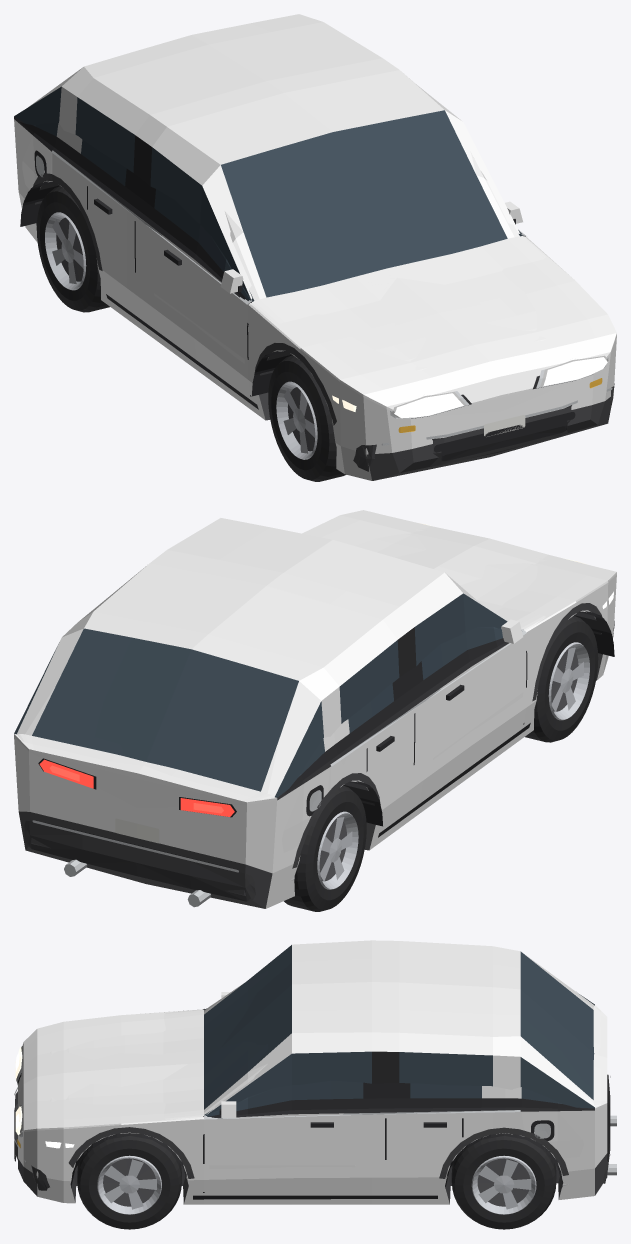
Rendered from pampeiro.glb.
The picture shows the model from 3 angles, top to bottom: view 1: azimuth 30°, elevation 25°; view 2: azimuth 150°, elevation 25°; view 3: azimuth 270°, elevation 25°; orthographic projection. The views are drawn at different scales.
Parts seen in each view (by area): view 1: body.001, glass.001, body, glass, details, wheel_fr, wheel_rr, lamp_head, wheel_wells.001, lamp_head.001; view 2: body.001, glass.001, body, details, glass, wheel_rr, wheel_fr, wheel_wells.001, lamp_tail.001, lamp_tail; view 3: body.001, glass.001, body, glass, wheel_rl, wheel_fl, details, wheel_wells, lamp_head, wheel_wells.001.
Boxes of the visible parts, <box> form: body.001: <box>14,14,616,480</box>; glass.001: <box>14,86,475,298</box>; body: <box>20,122,596,459</box>; glass: <box>33,123,523,302</box>; details: <box>33,150,614,471</box>; wheel_fr: <box>268,355,346,481</box>; wheel_rr: <box>36,186,109,312</box>; lamp_head: <box>332,355,608,432</box>; wheel_wells.001: <box>20,181,292,396</box>; lamp_head.001: <box>395,358,607,418</box>; body.001: <box>14,510,616,908</box>; glass.001: <box>14,593,507,797</box>; body: <box>17,528,546,880</box>; details: <box>24,603,614,907</box>; glass: <box>32,626,502,791</box>; wheel_rr: <box>284,785,366,911</box>; wheel_fr: <box>525,616,598,742</box>; wheel_wells.001: <box>343,611,614,826</box>; lamp_tail.001: <box>39,759,234,816</box>; lamp_tail: <box>38,758,236,817</box>; body.001: <box>18,940,607,1204</box>; glass.001: <box>207,945,594,1114</box>; body: <box>18,982,606,1185</box>; glass: <box>204,970,593,1116</box>; wheel_rl: <box>451,1136,556,1229</box>; wheel_fl: <box>77,1136,181,1229</box>; details: <box>14,992,616,1199</box>; wheel_wells: <box>71,1133,562,1188</box>; lamp_head: <box>15,1046,74,1148</box>; wheel_wells.001: <box>71,1136,562,1187</box>.
Size of the model in its own units: 1.99 by 1.58 by 4.38.
